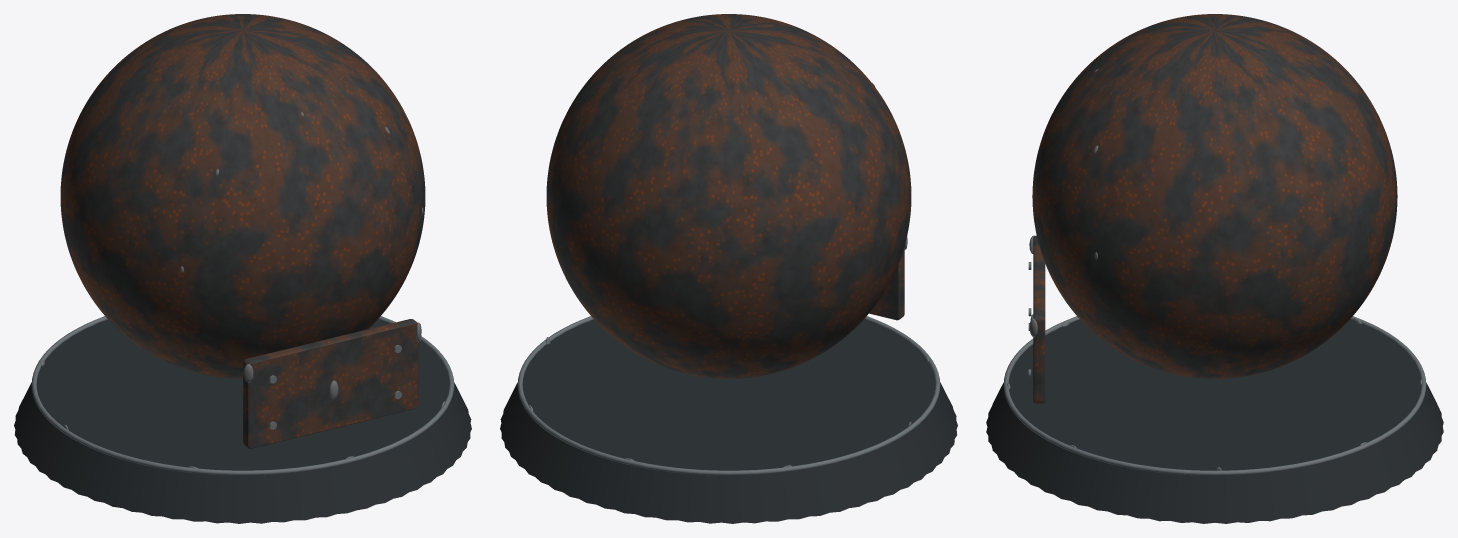
3 renders of one model, left to right at view 1: azimuth 30°, elevation 25°; view 2: azimuth 150°, elevation 25°; view 3: azimuth 270°, elevation 25°, orthographic.
Parts seen in each view (by area): view 1: surface specimen, neutral specimen stand, specimen edge; view 2: surface specimen, neutral specimen stand, specimen edge; view 3: surface specimen, neutral specimen stand, specimen edge.
Part boxes in pixels (box(x1,y1,x2,y2)): surface specimen: box(60, 14, 425, 448); neutral specimen stand: box(14, 319, 471, 523); specimen edge: box(31, 316, 454, 475); surface specimen: box(546, 14, 911, 378); neutral specimen stand: box(500, 319, 957, 523); specimen edge: box(517, 316, 940, 475); surface specimen: box(1032, 14, 1397, 403); neutral specimen stand: box(986, 319, 1443, 523); specimen edge: box(1003, 262, 1426, 475).
Size of the model in its own units: 0.539 by 0.515 by 0.539.
4 materials, 1 textured.
